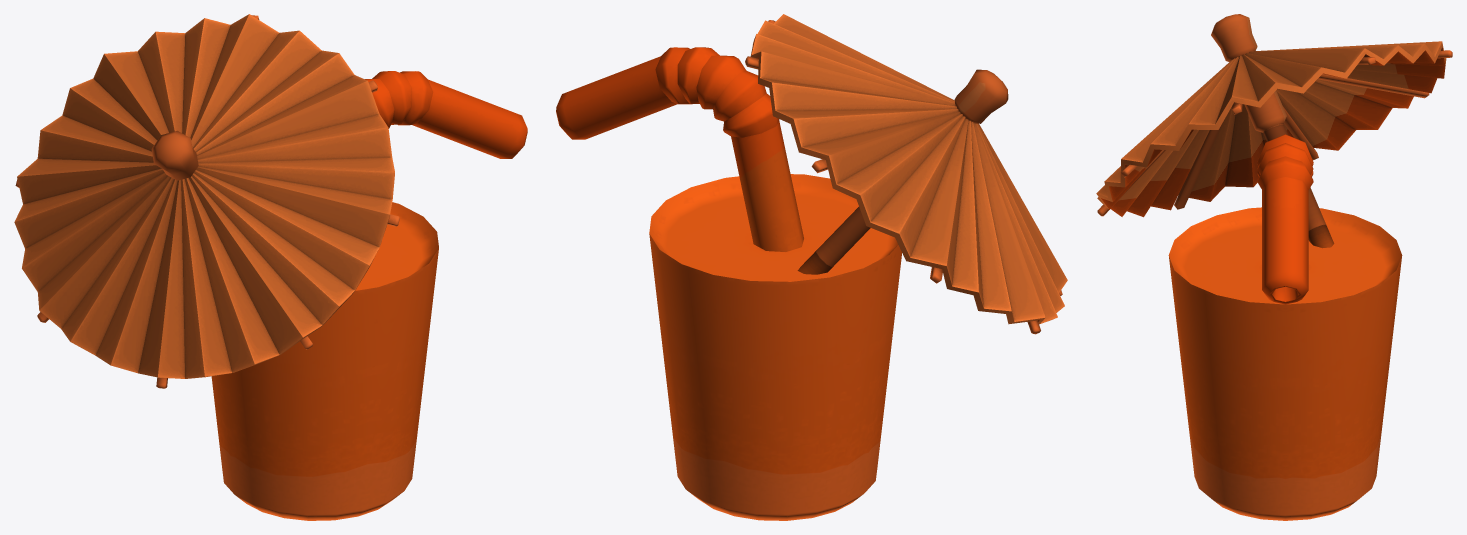
Rendered from Web_Smoothie_Mix_Brown.obj.
The picture shows the model from 3 angles, left to right: view 1: azimuth 30°, elevation 25°; view 2: azimuth 150°, elevation 25°; view 3: azimuth 270°, elevation 25°; orthographic projection. The views are drawn at different scales.
Parts seen in each view (by area): view 1: m_recipe_megaSmoothie_01(Clone)_0; view 2: m_recipe_megaSmoothie_01(Clone)_0; view 3: m_recipe_megaSmoothie_01(Clone)_0.
Part boxes in pixels (x1,y1,x2,y2): m_recipe_megaSmoothie_01(Clone)_0: (14,14,527,520); m_recipe_megaSmoothie_01(Clone)_0: (556,14,1067,520); m_recipe_megaSmoothie_01(Clone)_0: (1096,14,1452,520).
Bounding box in the file's own units: 1.11 × 1.01 × 0.7635.
Materials: 1 (1 with a texture image).
